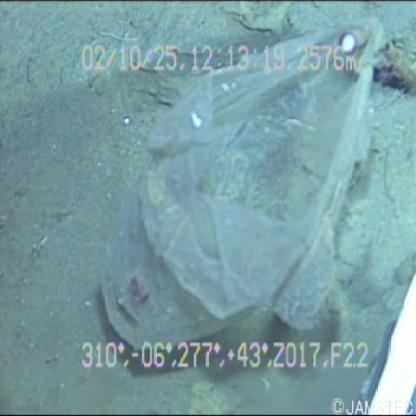Rác: (85, 18, 402, 378)
